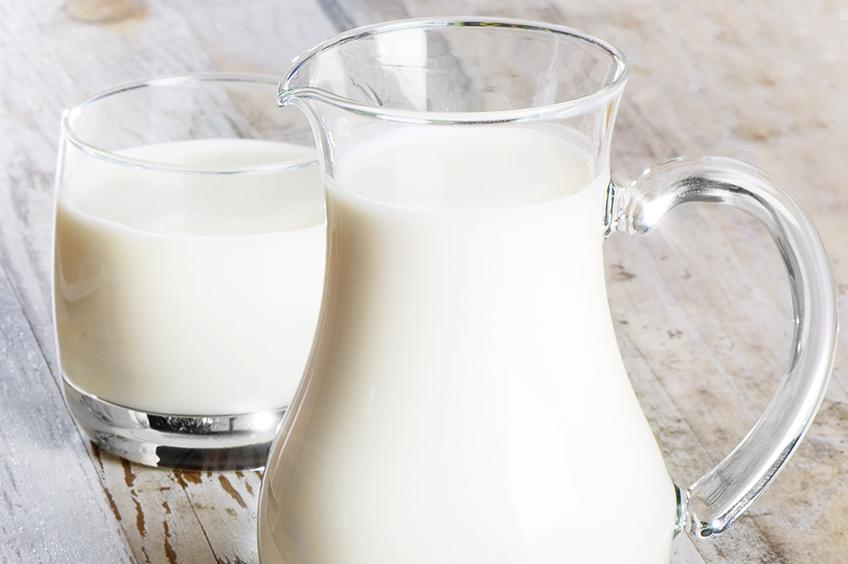produk_susu: (344, 152, 581, 564), (84, 150, 292, 404)
